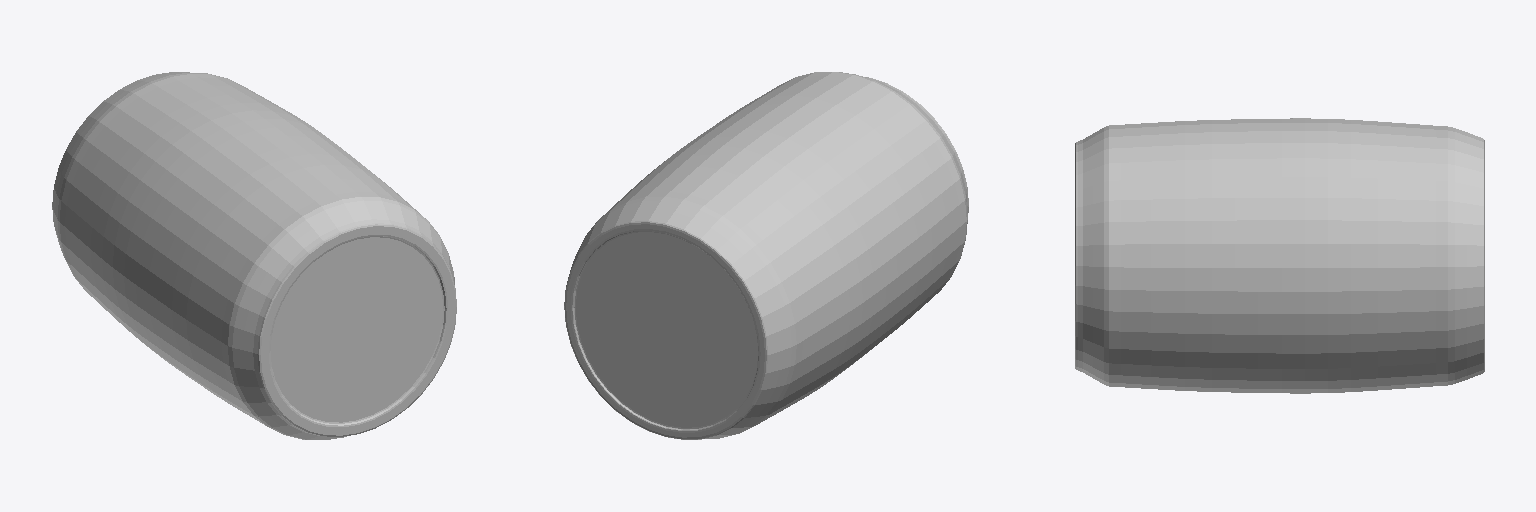
Rendered from turbo.obj.
3 renders of one model, left to right at view 1: azimuth 30°, elevation 25°; view 2: azimuth 150°, elevation 25°; view 3: azimuth 270°, elevation 25°, orthographic.
Visible parts, largest first — view 1: Cylinder01; view 2: Cylinder01; view 3: Cylinder01.
Boxes of the visible parts, <box> form: Cylinder01: <box>52,72,456,439</box>; Cylinder01: <box>564,72,968,439</box>; Cylinder01: <box>1075,118,1484,393</box>.
Size of the model in its own units: 10.42 by 10.42 by 15.46.